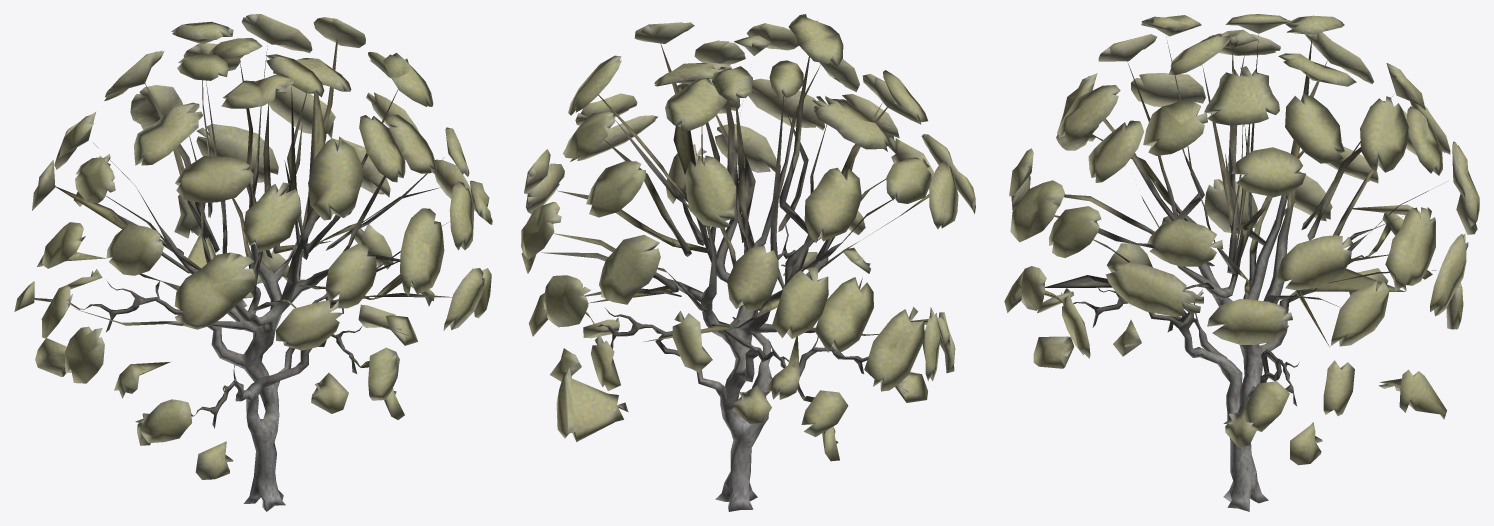
The model's file is javaporcos_mint_ipe_amarelo.glb.
The picture shows the model from 3 angles, left to right: view 1: azimuth 30°, elevation 25°; view 2: azimuth 150°, elevation 25°; view 3: azimuth 270°, elevation 25°; orthographic projection. The views are drawn at different scales.
Visible parts, largest first — view 1: Ipê-amarelo; view 2: Ipê-amarelo; view 3: Ipê-amarelo.
Part boxes in pixels (bbox=[...]): Ipê-amarelo: bbox=[14, 14, 492, 511]; Ipê-amarelo: bbox=[521, 14, 975, 511]; Ipê-amarelo: bbox=[1004, 14, 1479, 511].
Bounding box in the file's own units: 7.17 × 8 × 7.34.
1 material, 1 textured.
